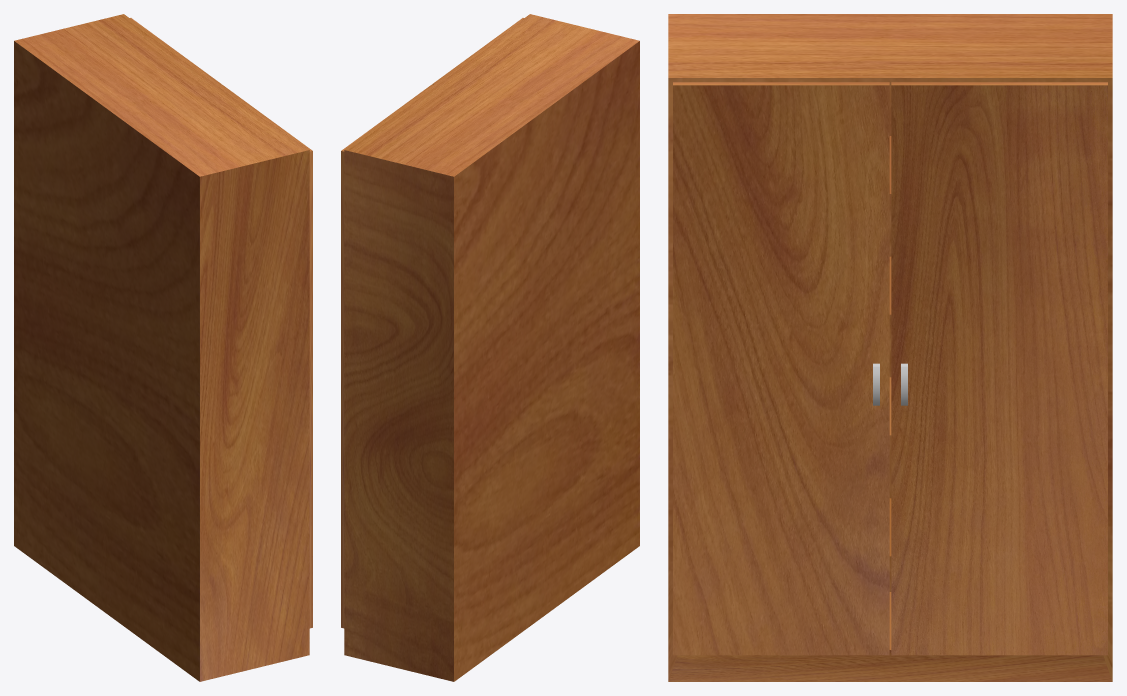
Rendered from szafka3.fbx.
The picture shows the model from 3 angles, left to right: view 1: azimuth 30°, elevation 25°; view 2: azimuth 150°, elevation 25°; view 3: azimuth 270°, elevation 25°; orthographic projection. The views are drawn at different scales.
Parts seen in each view (by area): view 1: Cube.001; view 2: Cube.001; view 3: Cube.001.
Boxes of the visible parts, box(x1,y1,x2,y2) form: Cube.001: box(14, 14, 312, 681); Cube.001: box(341, 14, 639, 681); Cube.001: box(668, 14, 1112, 681).
Size of the model in its own units: 77.2 by 300 by 200.
Materials: 2 (1 with a texture image).
